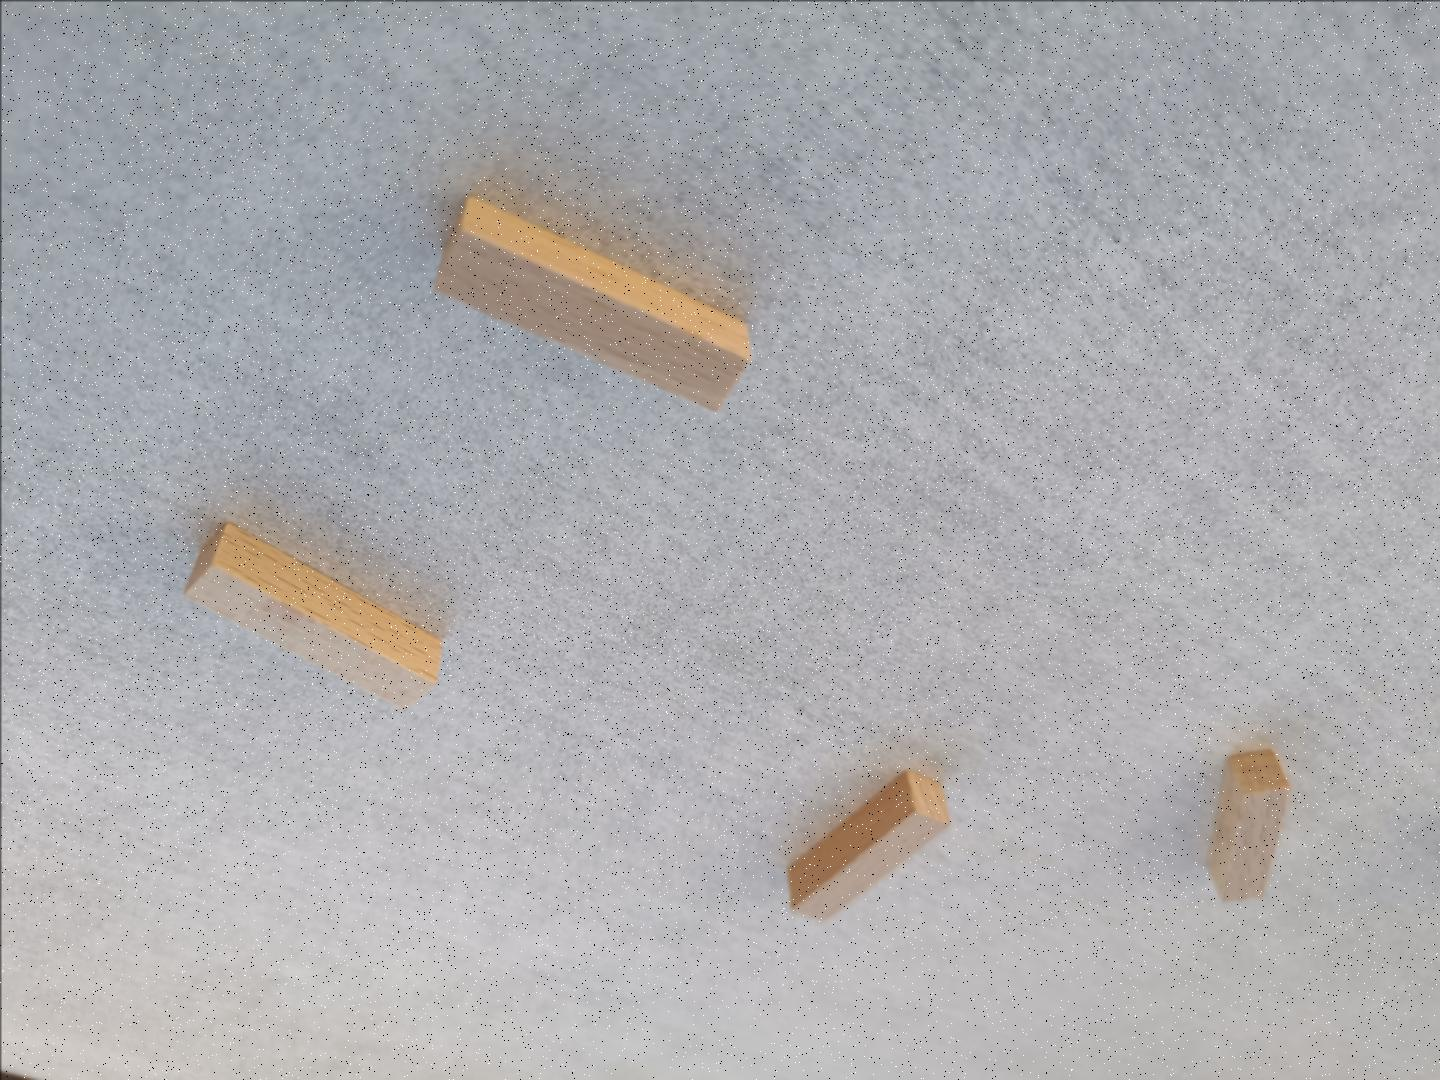jenga: (433, 197, 751, 407), (183, 523, 441, 706), (788, 770, 948, 920), (1206, 751, 1288, 900)
